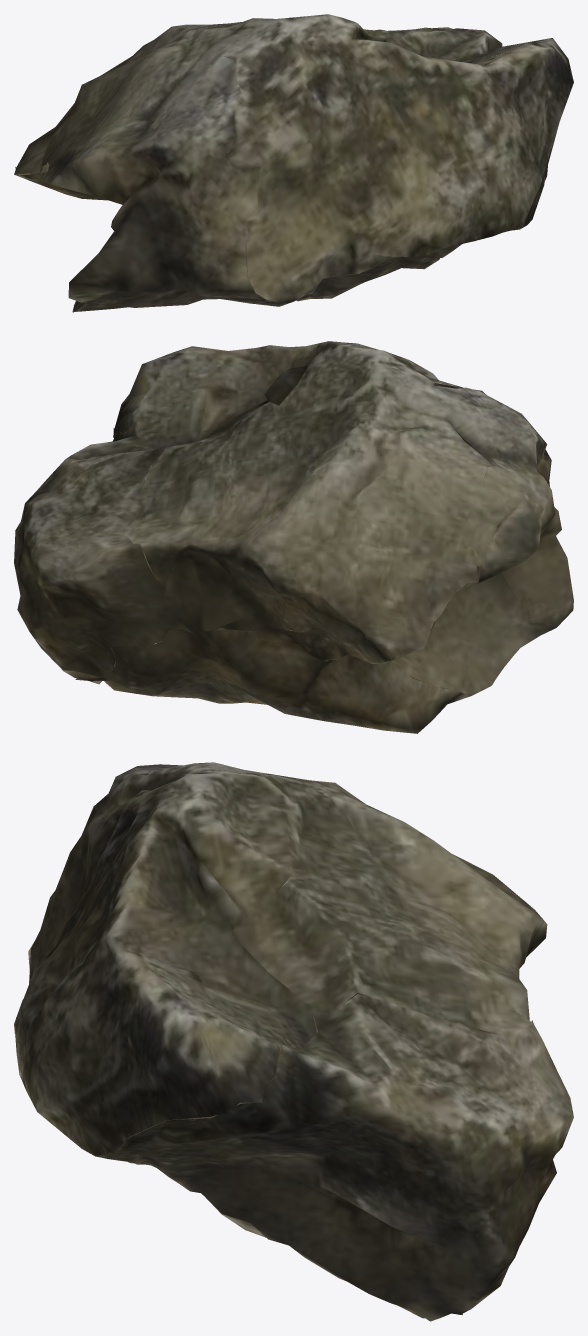
File: pr_moss_b_02.fbx
The picture shows the model from 3 angles, top to bottom: view 1: azimuth 30°, elevation 25°; view 2: azimuth 150°, elevation 25°; view 3: azimuth 270°, elevation 25°; orthographic projection. The views are drawn at different scales.
Visible parts, largest first — view 1: pr_moss_b_02_LOD0; view 2: pr_moss_b_02_LOD0; view 3: pr_moss_b_02_LOD0.
Part boxes in pixels (left/top/right/bottom): pr_moss_b_02_LOD0: left=14, top=14, right=573, bottom=312; pr_moss_b_02_LOD0: left=14, top=341, right=573, bottom=733; pr_moss_b_02_LOD0: left=14, top=762, right=573, bottom=1321.
Size of what is drawn, in the model's own units: 1.95 by 1.3 by 1.53.
1 material, 1 textured.
